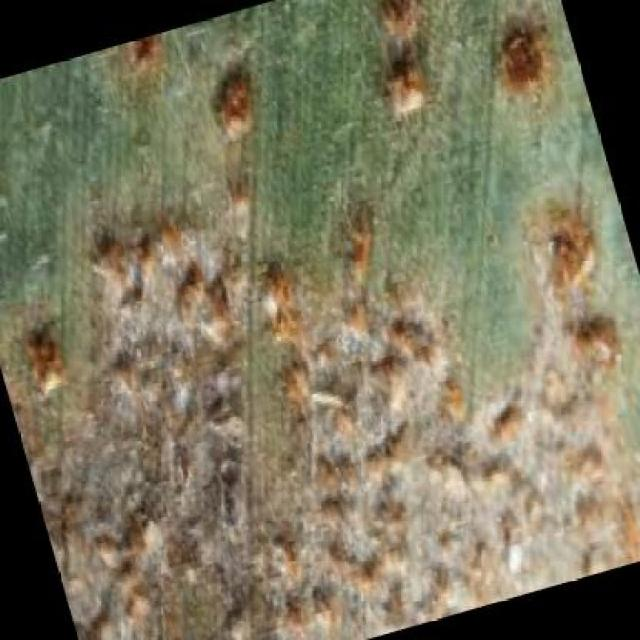Corn_Rust: (80, 65, 578, 580)
